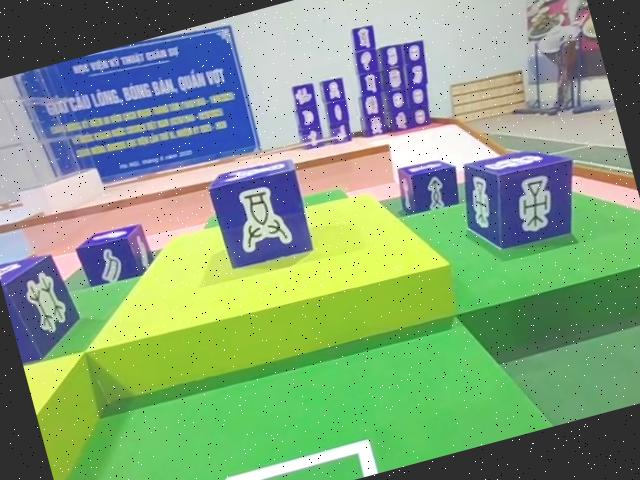R2 Real Blue: (452, 138, 591, 260), (205, 154, 321, 275), (0, 247, 85, 364), (74, 221, 160, 293), (393, 154, 466, 219)
